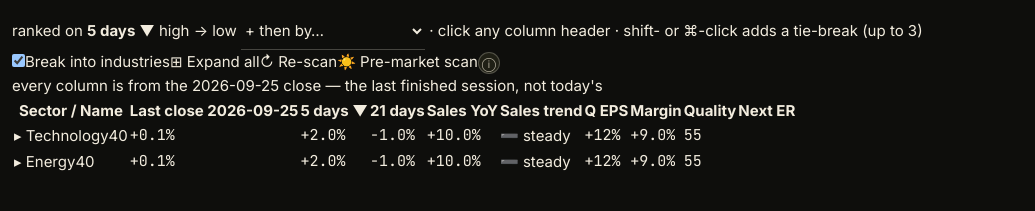
Scenario: the "then by" control, ✕ clear and ☀️ › "then by" adds a tie-break and is disabled at the max
The width and height of the screenshot is (1035, 211).
Check: the button "▸ Technology" is shown, box [14,124,109,148]
Select "Quality" in the dropdown named "then by" at (333, 31), box [241,12,425,50]
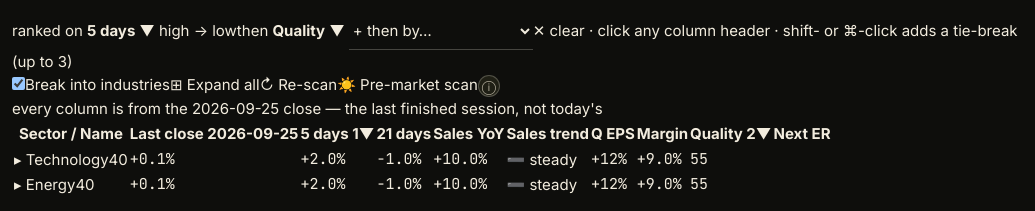
Check: the button "Quality 2▼" is shown, box [690,122,772,146]
Select "Margin" in the dropdown named "then by" at (441, 31), box [349,12,533,50]
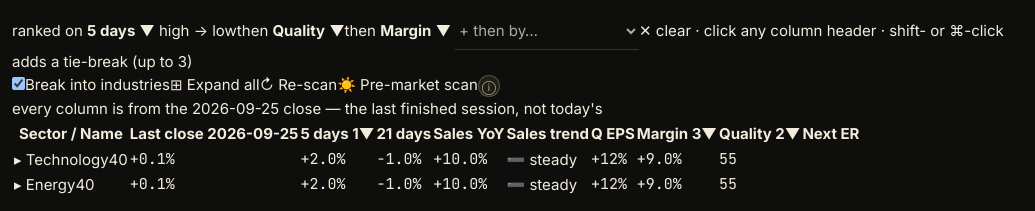
Check: the dropdown named "then by" is disabled, box [455,12,639,50]
